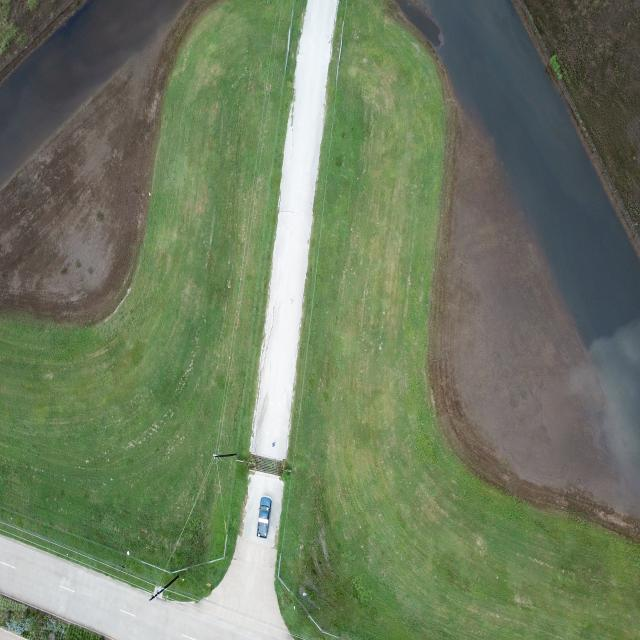fire: (428, 0, 640, 346), (0, 0, 186, 186)
